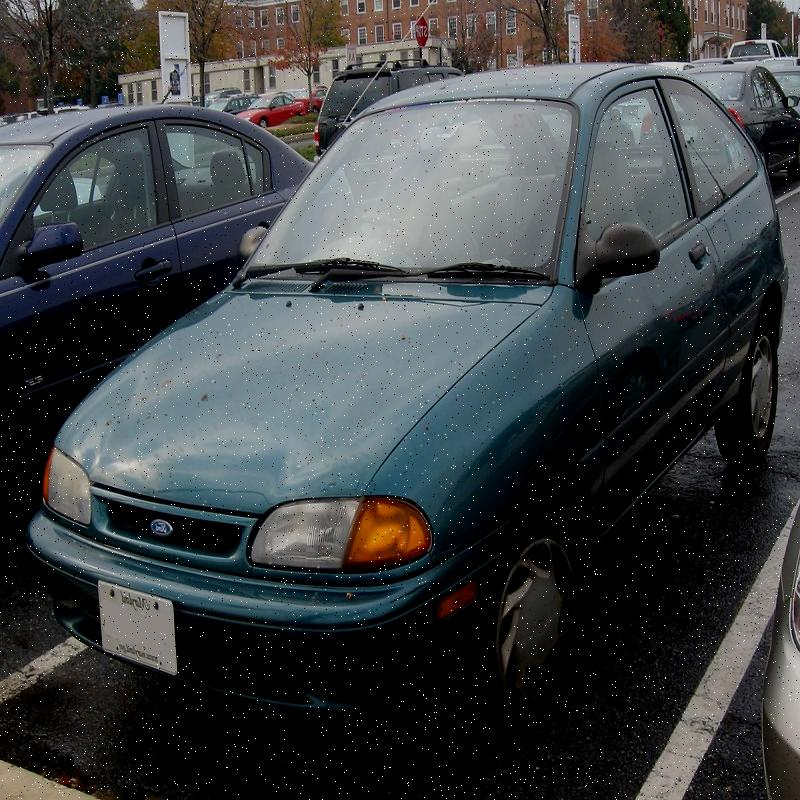car: (22, 37, 773, 793)
